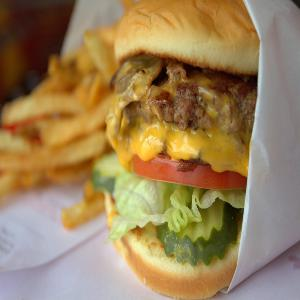cheeseburger: (107, 6, 273, 300)
